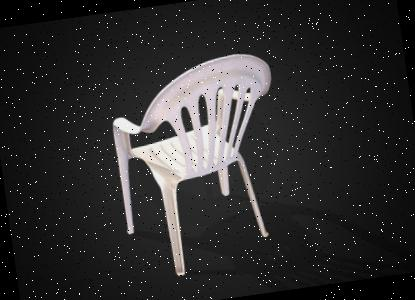chair: (91, 42, 297, 287)
